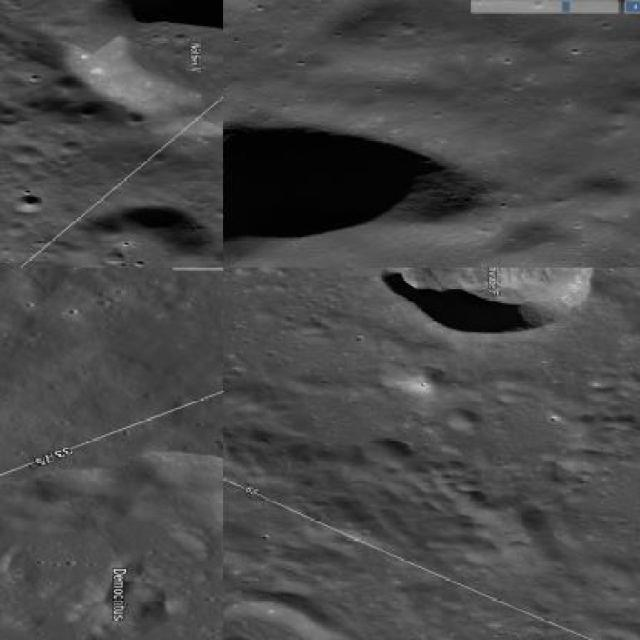crater: (223, 126, 520, 266), (0, 452, 222, 638), (63, 0, 222, 134), (372, 268, 596, 337), (60, 208, 209, 266), (11, 195, 43, 214)
